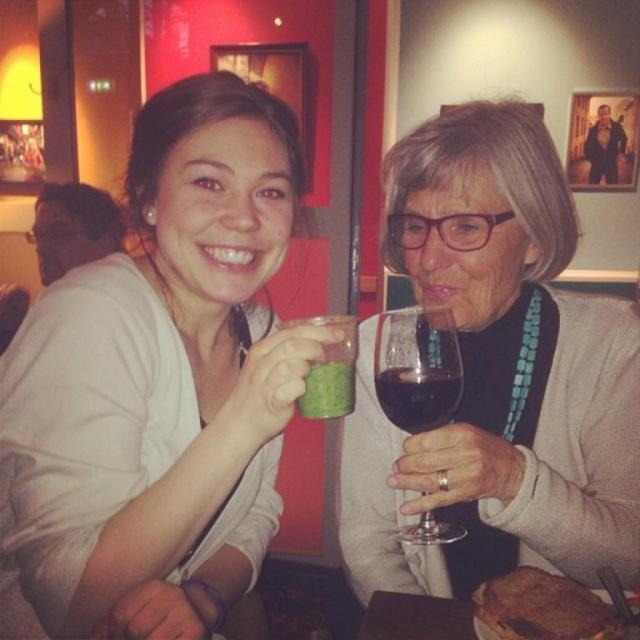cup-disposable: (278, 314, 364, 419)
glass-wine: (372, 306, 468, 546)
